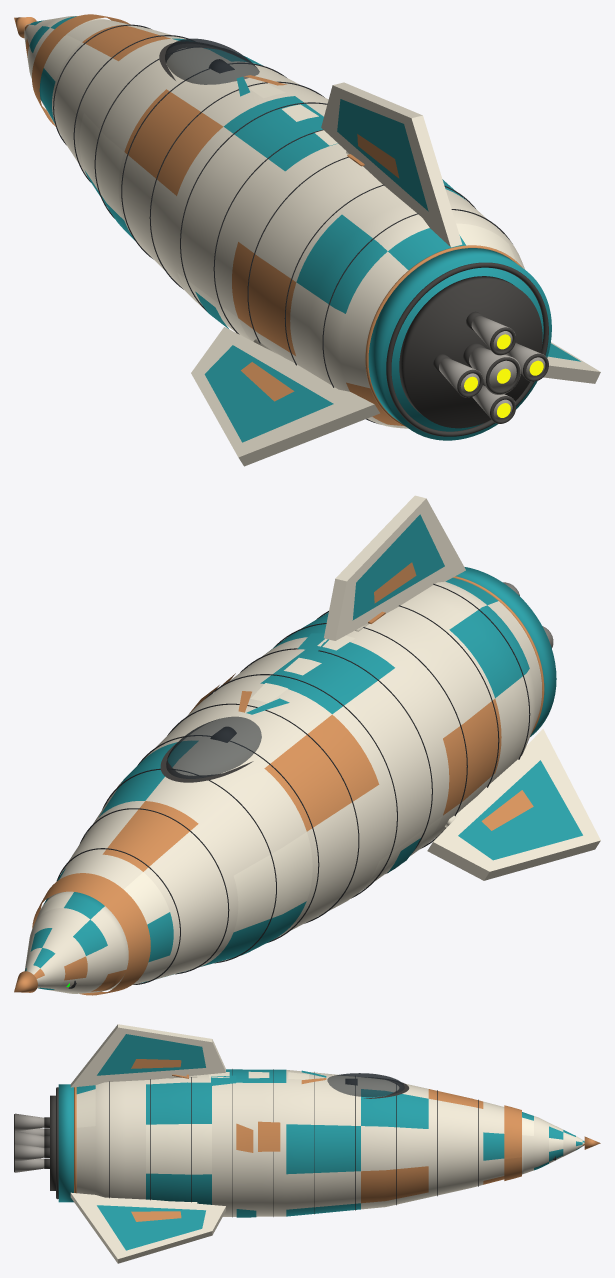
File: Ship_LunarCourier_322196.glb
The picture shows the model from 3 angles, top to bottom: view 1: azimuth 30°, elevation 25°; view 2: azimuth 150°, elevation 25°; view 3: azimuth 270°, elevation 25°; orthographic projection. The views are drawn at different scales.
Parts seen in each view (by area): view 1: Fuselage_TaperedPaintedBody, EngineDeck_AftDarkMountPlate, AftCollar_PrimaryEngineBand, TailFin_LeftLower_slender_CreamAerofoil, TailFin_Dorsal_slender_CreamAerofoil, TailFinPanel_LeftLower_PrimarySide_B, TailFinPanel_Dorsal_PrimarySide_A, CanopyGlass_DorsalLowInsetDome, AftTrimRing_DarkRear, PaintBand_NosePanelBlockCollar, EngineBell_Center_BurnishedNozzle, TailFin_RightLower_slender_CreamAerofoil (+8 smaller); view 2: Fuselage_TaperedPaintedBody, NoseCone_PaintedNeedleSection, TailFin_LeftLower_slender_CreamAerofoil, TailFin_Dorsal_slender_CreamAerofoil, TailFinPanel_LeftLower_PrimarySide_B, CanopyGlass_DorsalLowInsetDome, PaintBand_NosePanelBlockCollar, TailFinPanel_Dorsal_PrimarySide_A, AftCollar_PrimaryEngineBand, TailFinTrimPatch_LeftLower_B, CanopyFrame_DorsalOvalRim; view 3: Fuselage_TaperedPaintedBody, TailFin_RightLower_slender_CreamAerofoil, TailFin_Dorsal_slender_CreamAerofoil, TailFinPanel_RightLower_PrimarySide_A, TailFinPanel_Dorsal_PrimarySide_B, NoseCone_PaintedNeedleSection, AftCollar_PrimaryEngineBand, CanopyGlass_DorsalLowInsetDome, PaintBand_NosePanelBlockCollar, PaintPanelBlock_Raised_02, EngineDeck_AftDarkMountPlate, TailFinTrimPatch_RightLower_A (+7 smaller).
Part boxes in pixels (left/top/right/bottom): Fuselage_TaperedPaintedBody: left=39, top=18, right=525, bottom=428; EngineDeck_AftDarkMountPlate: left=399, top=276, right=542, bottom=428; AftCollar_PrimaryEngineBand: left=368, top=248, right=551, bottom=440; TailFin_LeftLower_slender_CreamAerofoil: left=191, top=327, right=379, bottom=466; TailFin_Dorsal_slender_CreamAerofoil: left=321, top=82, right=462, bottom=247; TailFinPanel_LeftLower_PrimarySide_B: left=204, top=345, right=333, bottom=442; TailFinPanel_Dorsal_PrimarySide_A: left=337, top=99, right=428, bottom=211; CanopyGlass_DorsalLowInsetDome: left=165, top=38, right=259, bottom=84; AftTrimRing_DarkRear: left=386, top=262, right=548, bottom=436; PaintBand_NosePanelBlockCollar: left=32, top=14, right=130, bottom=126; EngineBell_Center_BurnishedNozzle: left=469, top=347, right=520, bottom=394; TailFin_RightLower_slender_CreamAerofoil: left=543, top=342, right=600, bottom=383; Fuselage_TaperedPaintedBody: left=43, top=577, right=541, bottom=990; NoseCone_PaintedNeedleSection: left=24, top=891, right=128, bottom=993; TailFin_LeftLower_slender_CreamAerofoil: left=427, top=729, right=600, bottom=880; TailFin_Dorsal_slender_CreamAerofoil: left=324, top=495, right=465, bottom=640; TailFinPanel_LeftLower_PrimarySide_B: left=458, top=760, right=582, bottom=860; CanopyGlass_DorsalLowInsetDome: left=166, top=716, right=261, bottom=778; PaintBand_NosePanelBlockCollar: left=32, top=873, right=150, bottom=995; TailFinPanel_Dorsal_PrimarySide_A: left=352, top=514, right=444, bottom=620; AftCollar_PrimaryEngineBand: left=455, top=567, right=556, bottom=736; TailFinTrimPatch_LeftLower_B: left=481, top=790, right=533, bottom=830; CanopyFrame_DorsalOvalRim: left=160, top=743, right=253, bottom=782; Fuselage_TaperedPaintedBody: left=76, top=1069, right=504, bottom=1216; TailFin_RightLower_slender_CreamAerofoil: left=70, top=1192, right=225, bottom=1263; TailFin_Dorsal_slender_CreamAerofoil: left=70, top=1024, right=225, bottom=1087; TailFinPanel_RightLower_PrimarySide_A: left=97, top=1205, right=205, bottom=1250; TailFinPanel_Dorsal_PrimarySide_B: left=97, top=1034, right=205, bottom=1075; NoseCone_PaintedNeedleSection: left=522, top=1112, right=584, bottom=1174; AftCollar_PrimaryEngineBand: left=58, top=1084, right=73, bottom=1202; CanopyGlass_DorsalLowInsetDome: left=327, top=1073, right=404, bottom=1097; PaintBand_NosePanelBlockCollar: left=504, top=1105, right=521, bottom=1180; PaintPanelBlock_Raised_02: left=258, top=1121, right=280, bottom=1151; EngineDeck_AftDarkMountPlate: left=50, top=1095, right=55, bottom=1190; TailFinTrimPatch_RightLower_A: left=131, top=1211, right=181, bottom=1221.
Bounding box in the file's own units: 3.75 × 3.07 × 8.78.
